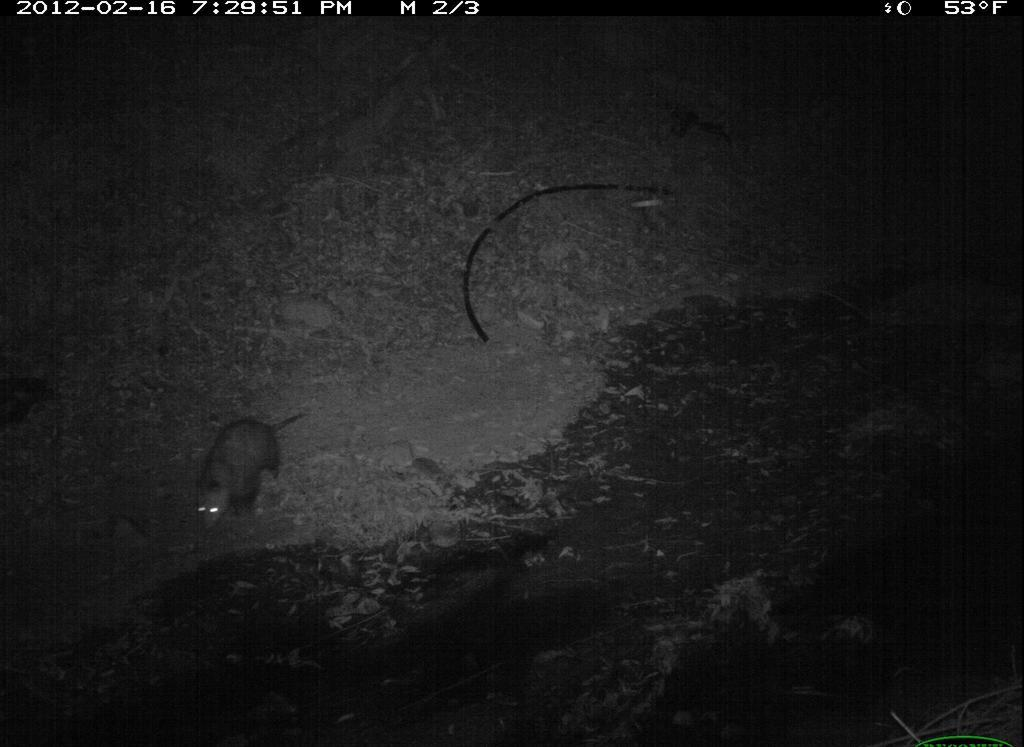opossum: (191, 402, 315, 551)
